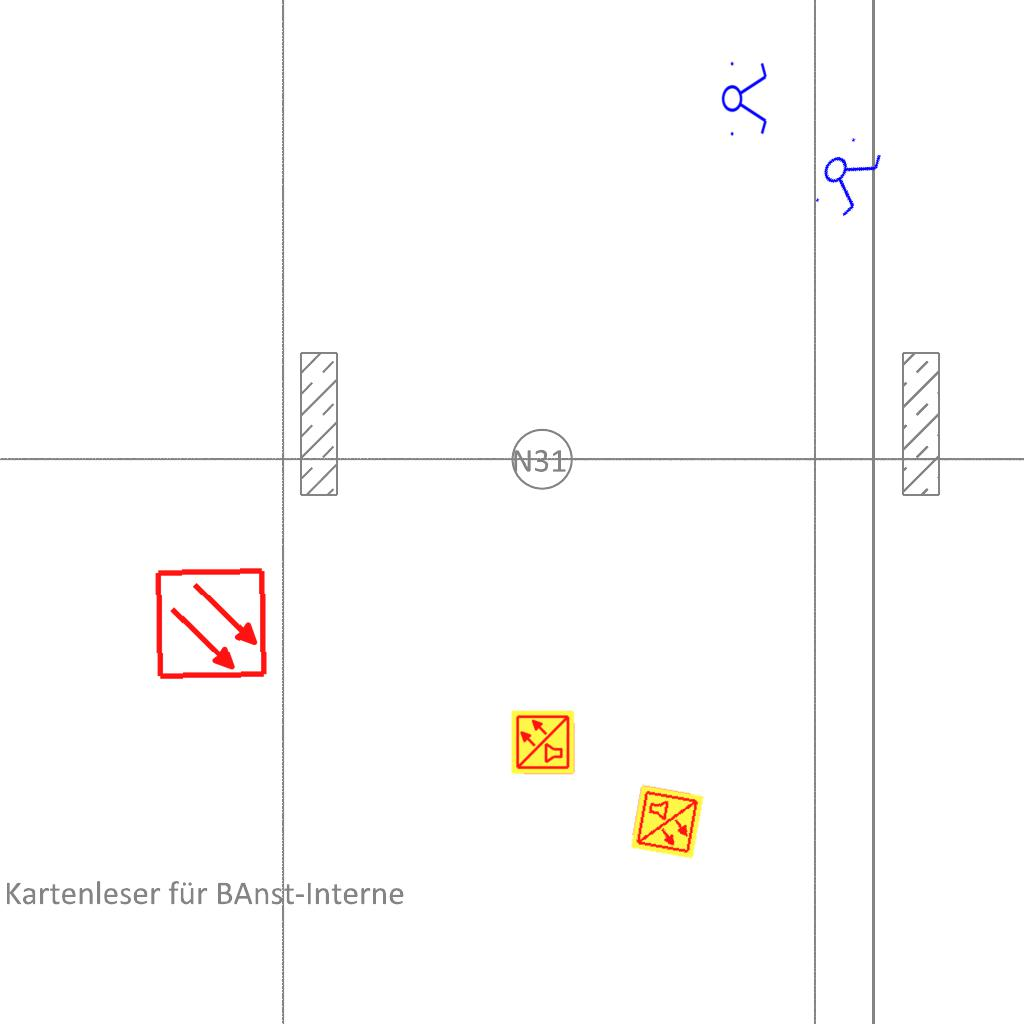OKW_Multisensormelder_(Kombination_optischer_Rauch-Kahlenmonoxid_Waerme-Melder): (628, 783, 706, 861), (510, 709, 576, 775)
RMO_Rauchmelder_optischer: (154, 566, 269, 681)
Serienschalter: (804, 127, 890, 225), (721, 56, 769, 140)
